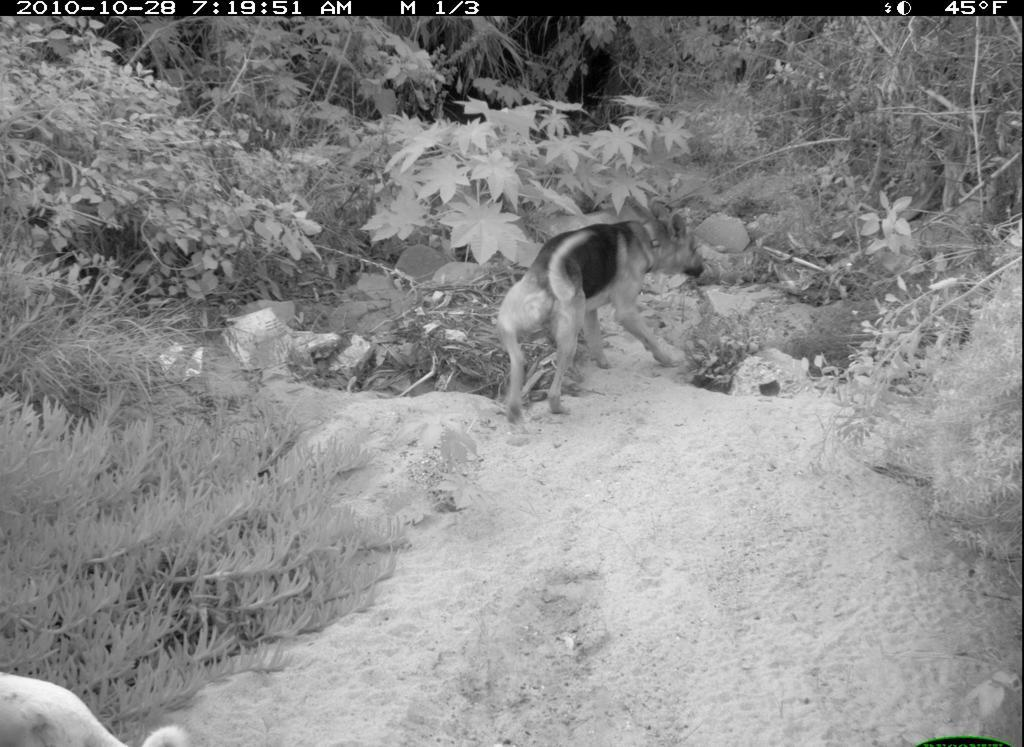dog: (487, 198, 725, 432), (3, 666, 194, 745)
